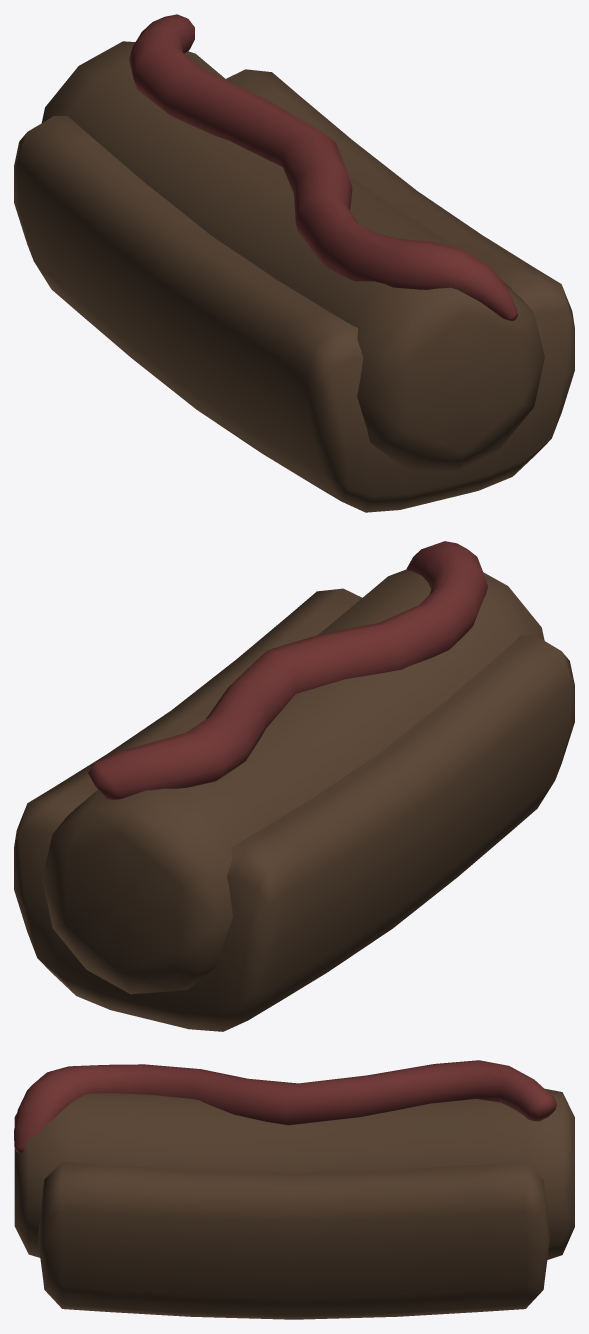
Rendered from hot dawg projectile.fbx.
3 renders of one model, top to bottom at view 1: azimuth 30°, elevation 25°; view 2: azimuth 150°, elevation 25°; view 3: azimuth 270°, elevation 25°, orthographic. The views are drawn at different scales.
Visible parts, largest first — view 1: BUN_UVED; view 2: BUN_UVED; view 3: BUN_UVED.
Boxes of the visible parts, <box> form: BUN_UVED: <box>14,14,574,512</box>; BUN_UVED: <box>14,541,574,1031</box>; BUN_UVED: <box>14,1060,574,1319</box>.
Size of the model in its own units: 8.9 by 8.95 by 20.14.
